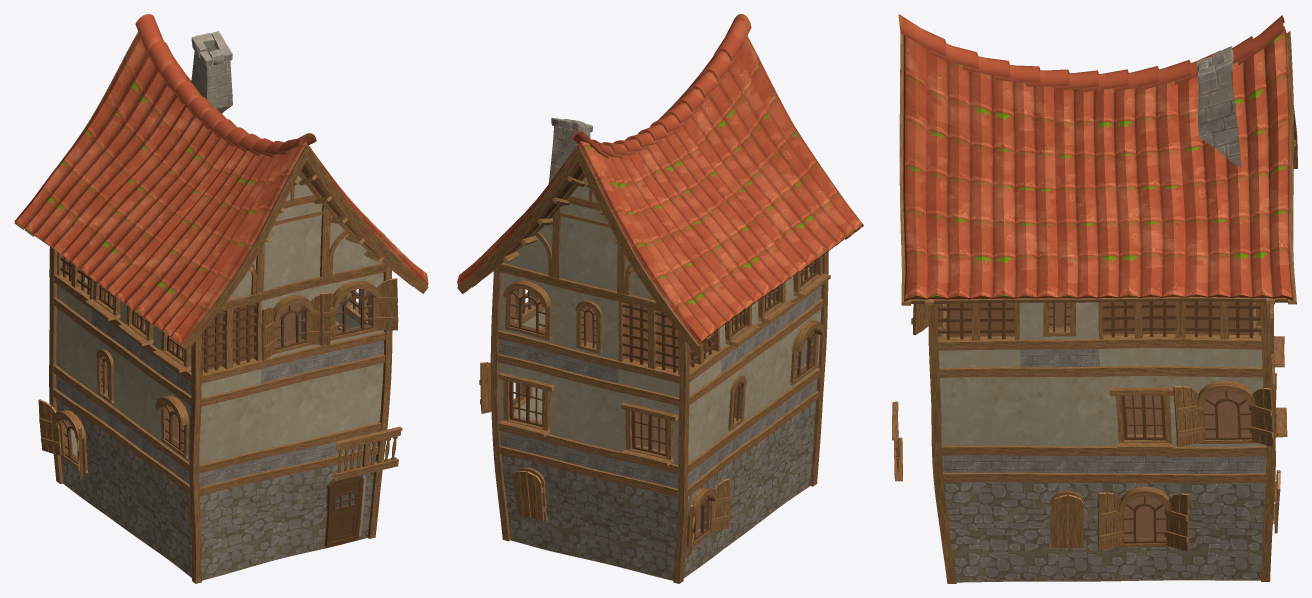
3 views of the same model, side by side, from view 1: azimuth 30°, elevation 25°; view 2: azimuth 150°, elevation 25°; view 3: azimuth 270°, elevation 25° (orthographic). The views are drawn at different scales.
Parts seen in each view (by area): view 1: H12; view 2: H12; view 3: H12.
Part boxes in pixels (left/top/right/bottom): H12: left=14, top=14, right=428, bottom=583; H12: left=457, top=14, right=863, bottom=583; H12: left=892, top=14, right=1297, bottom=583.
Size of the model in its own units: 8.77 by 14.45 by 10.23.
45 materials, 41 textured.
